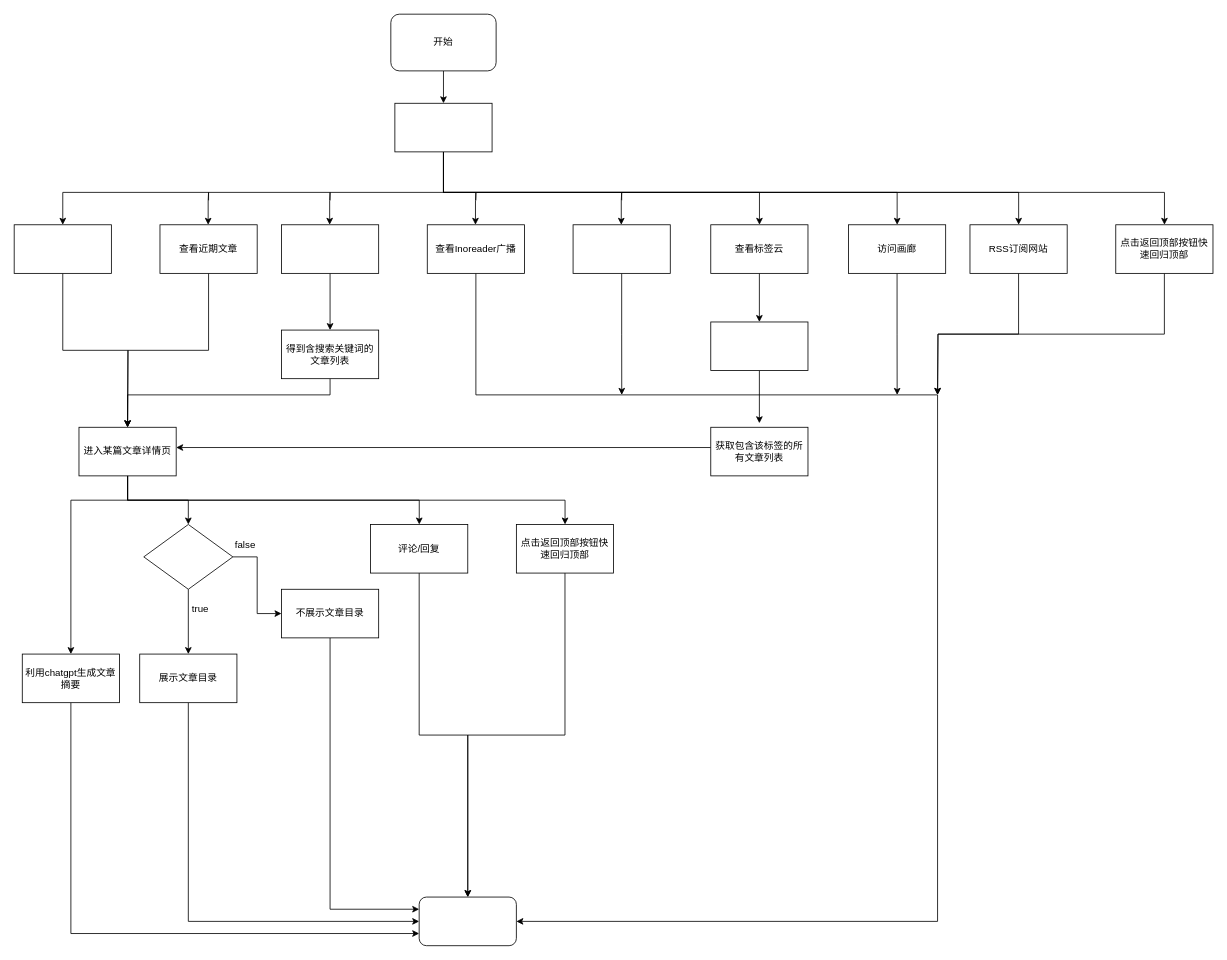
Some shapes in this 1227 by 960 pixel diagram are drawn without their labels. Here are the shapes that lost their labels. From the top down, the centre of each, then its label:
pixel 443 127: 访问网站首页
pixel 62 248: 浏览文章列表
pixel 330 248: 搜索文章
pixel 621 248: 查看raindrop书签
pixel 759 346: 点击某个标签
pixel 188 556: showtoc == true
pixel 467 921: 结束
